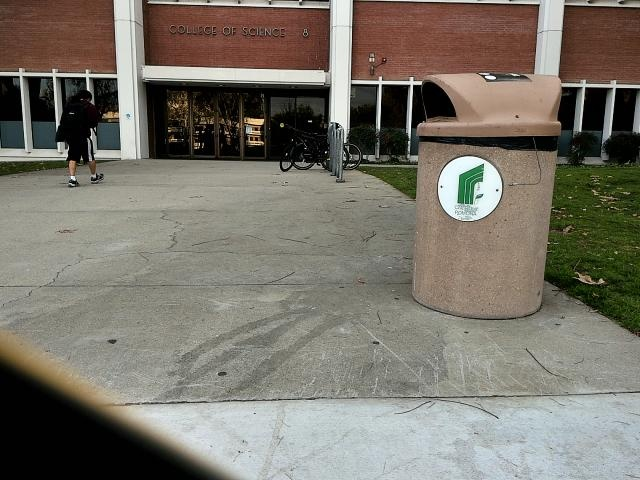trashcan: (396, 61, 564, 321)
